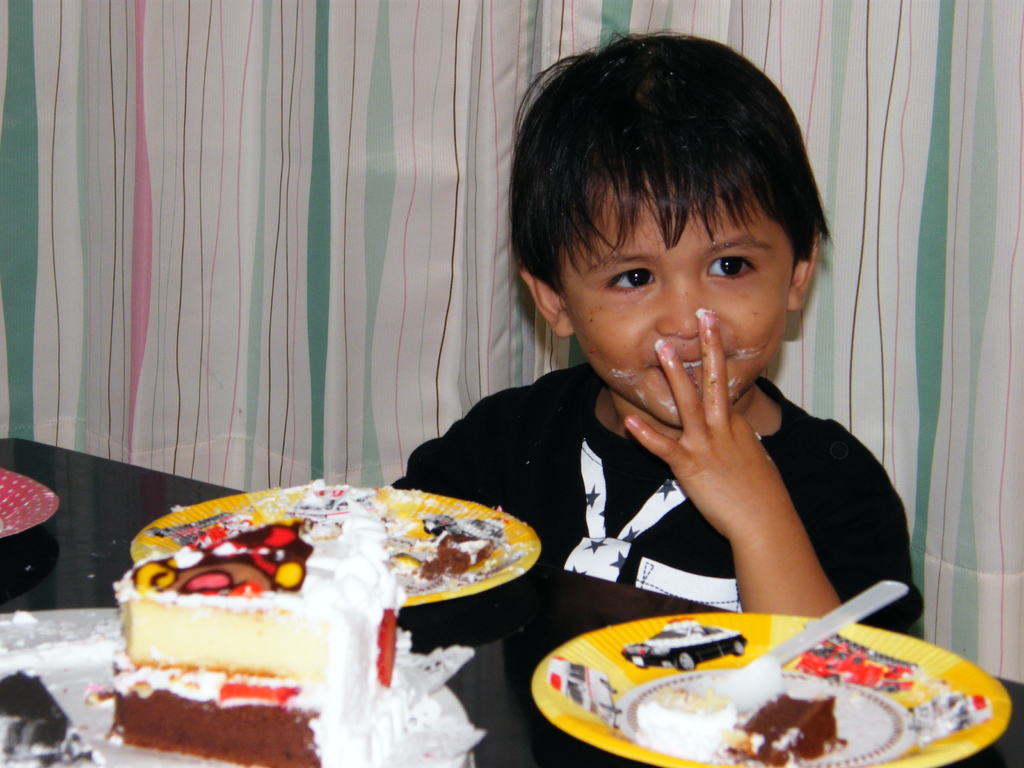cake: (87, 509, 488, 767)
